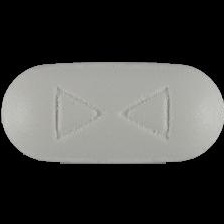0615-3589: (0, 0, 224, 224)
